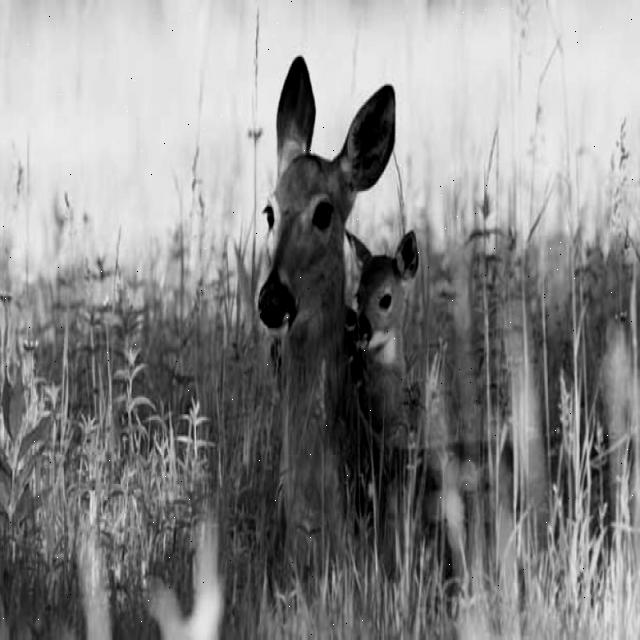deer: (247, 27, 403, 349), (336, 218, 429, 372)
